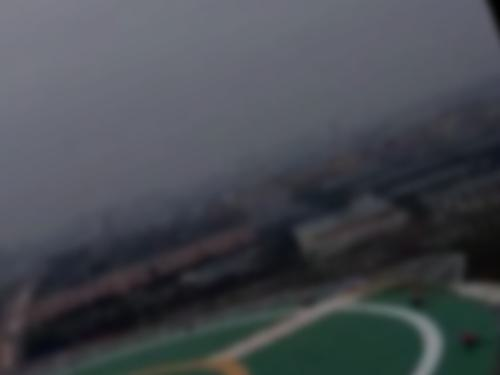Apron: (110, 331, 267, 375)
